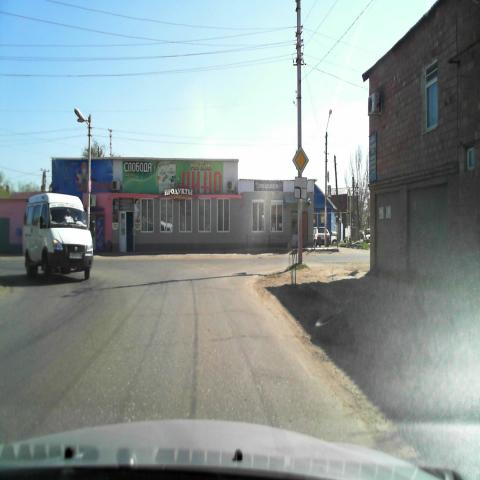2_1: (292, 146, 310, 174)
